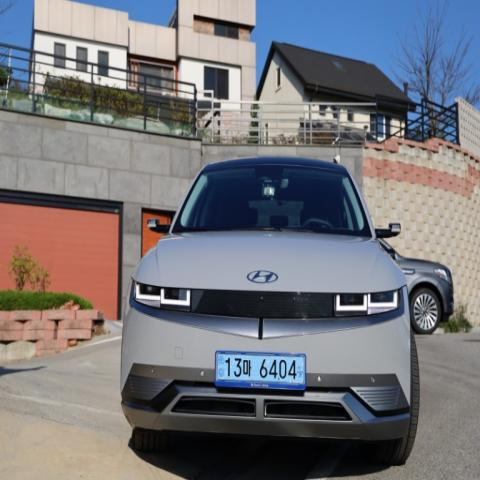LP: (208, 344, 314, 400)
